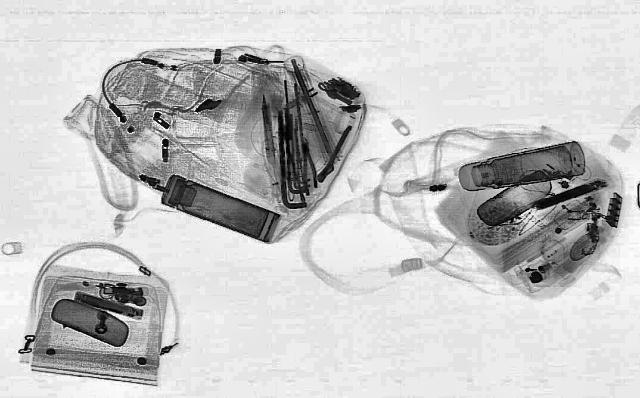Pliers: (292, 136, 320, 192)
Wrench: (313, 124, 355, 182)
